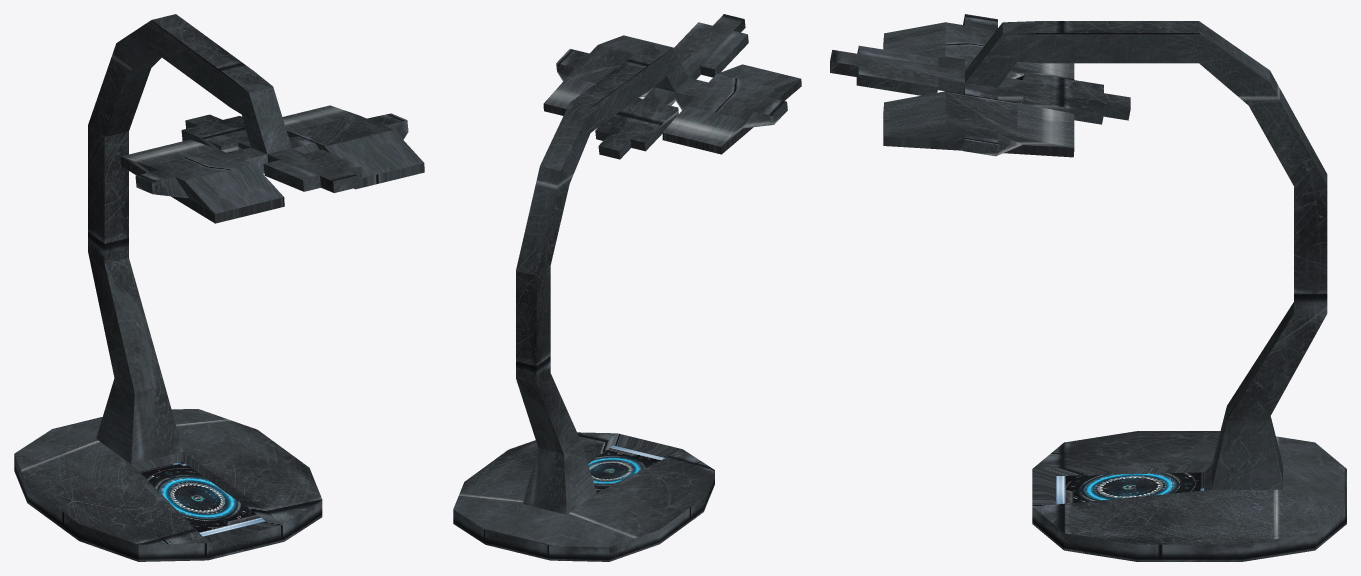
Rendered from desk_lamp.glb.
3 views of the same model, side by side, from view 1: azimuth 30°, elevation 25°; view 2: azimuth 150°, elevation 25°; view 3: azimuth 270°, elevation 25° (orthographic). The views are drawn at different scales.
Parts seen in each view (by area): view 1: MaterialFBXASC032FBXASC0352142150880, MaterialFBXASC032FBXASC0352142170964; view 2: MaterialFBXASC032FBXASC0352142150880, MaterialFBXASC032FBXASC0352142170964; view 3: MaterialFBXASC032FBXASC0352142150880, MaterialFBXASC032FBXASC0352142170964.
Boxes of the visible parts, bbox=[...] form: MaterialFBXASC032FBXASC0352142150880: bbox=[14, 14, 424, 561]; MaterialFBXASC032FBXASC0352142170964: bbox=[140, 461, 265, 536]; MaterialFBXASC032FBXASC0352142150880: bbox=[453, 14, 801, 561]; MaterialFBXASC032FBXASC0352142170964: bbox=[588, 445, 664, 492]; MaterialFBXASC032FBXASC0352142150880: bbox=[830, 14, 1346, 561]; MaterialFBXASC032FBXASC0352142170964: bbox=[1056, 472, 1204, 504].
Bounding box in the file's own units: 1.85 × 3.27 × 3.2.
Materials: 3 (2 with a texture image).
